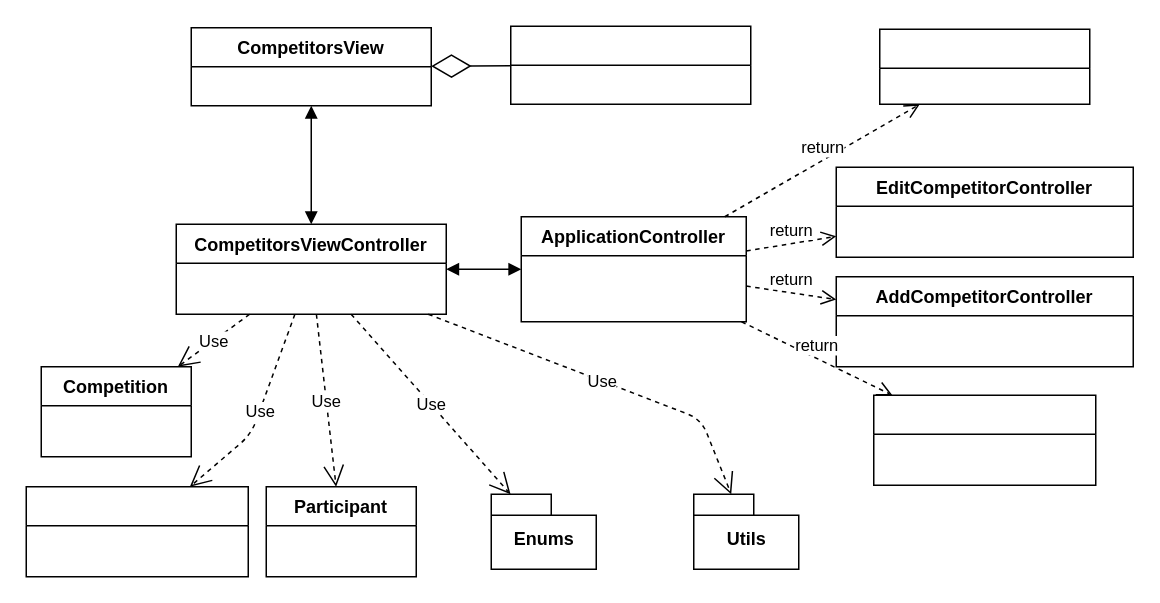
This 1160x603 diagram has some shape labels left out. Here are the shapes that lost their labels. From the top down, the box of each, then its label:
(509, 25, 751, 104): menuBar
(878, 28, 1090, 104): EliminationController
(872, 394, 1096, 485): WelcomeController
(25, 485, 248, 577): PersistanceMenager
